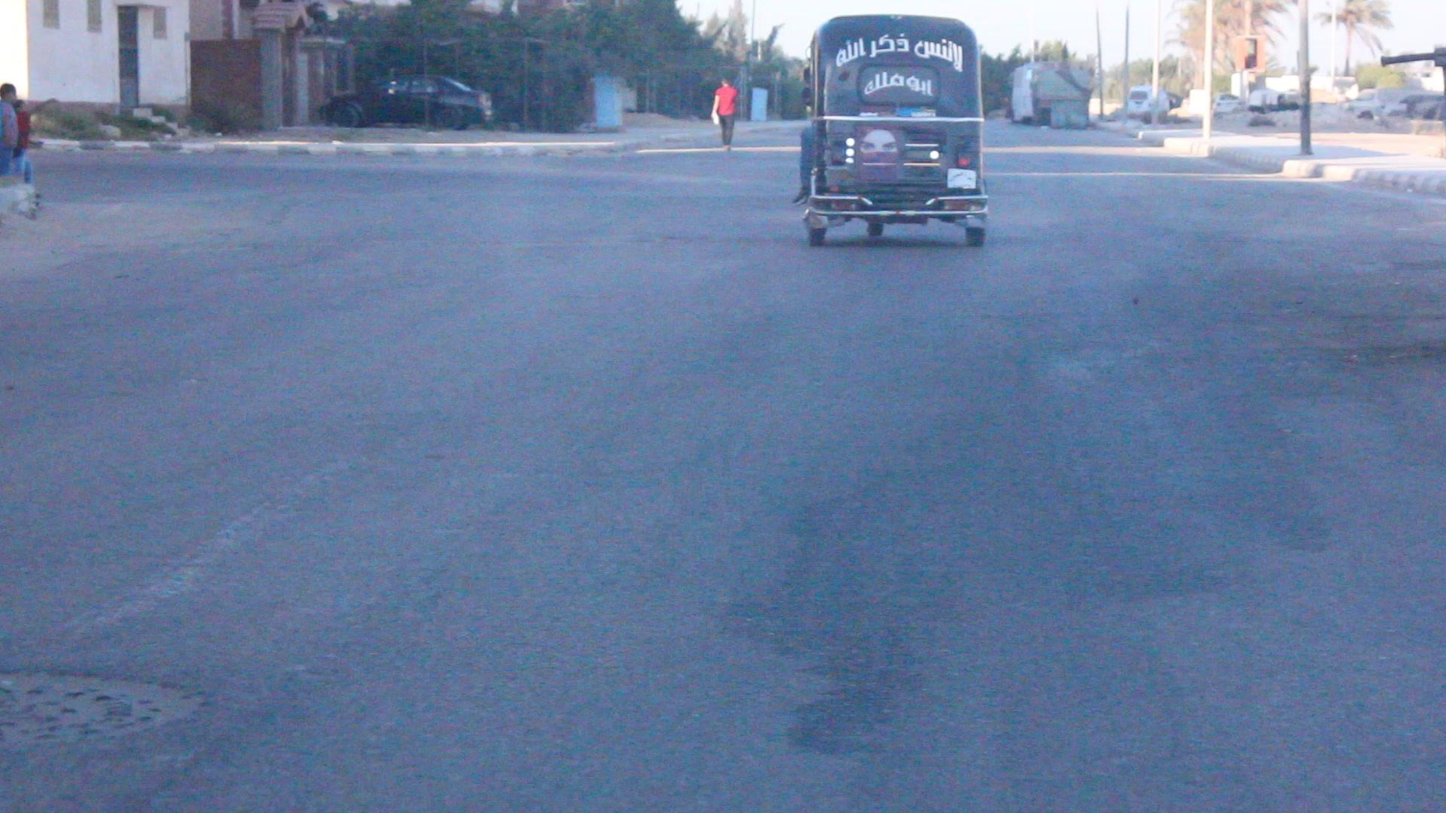Pothole: (0, 672, 228, 764)
